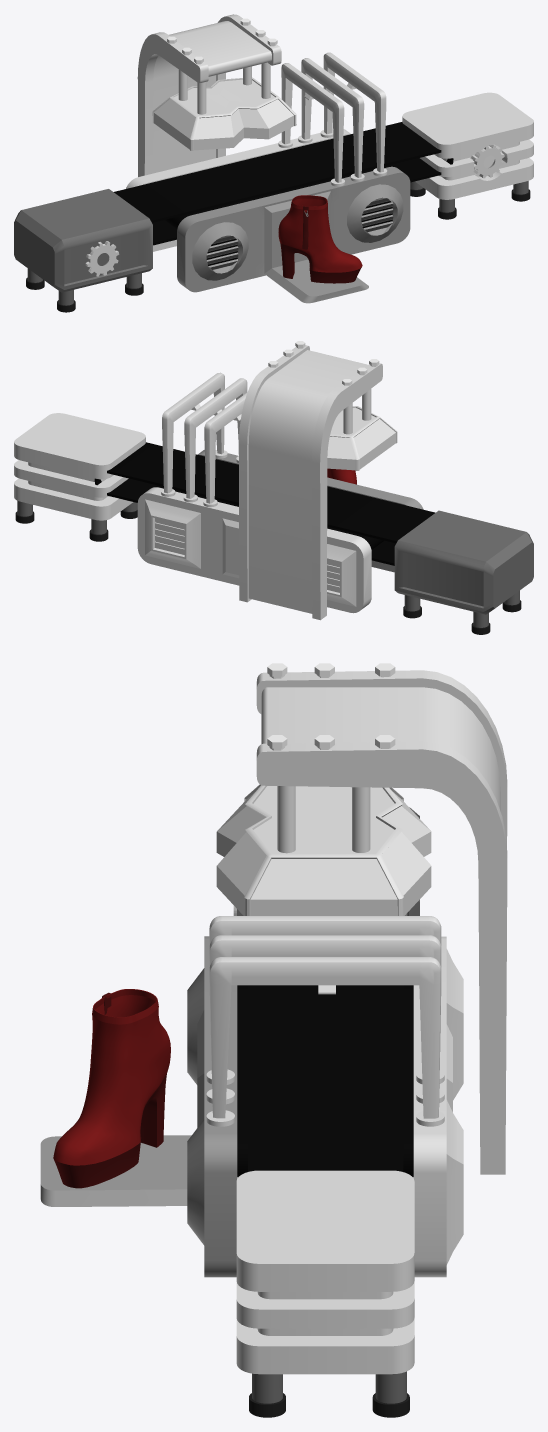
File: ayakkabmak7.fbx
3 renders of one model, top to bottom at view 1: azimuth 30°, elevation 25°; view 2: azimuth 150°, elevation 25°; view 3: azimuth 270°, elevation 25°, orthographic. The views are drawn at different scales.
Parts seen in each view (by area): view 1: Cube.063, Circle.181, Circle.187, Plane.011, Cube.033, Cylinder.217, s4studio_mesh_1_geom.025, Cube.067, Cube.066, Cube.069, Cube.065, Gear.069 (+4 smaller); view 2: Plane.011, Cube.065, Circle.187, Cube.033, Circle.181, Cylinder.217, Cube.069, Cube.067, Cube.066, Cube.063, Cylinder.219, Cylinder.222 (+4 smaller); view 3: Plane.011, Cube.033, Circle.181, Cylinder.217, Cube.063, s4studio_mesh_1_geom.025, Cube.069, Cube.065, Cube.067, Cube.066, Circle.182, Cylinder.236 (+3 smaller).
Part boxes in pixels (x1,y1,x2,y2): Cube.063: (177,166,410,303); Circle.181: (114,122,453,245); Circle.187: (14,189,152,292); Plane.011: (137,14,281,176); Cube.033: (402,92,533,199); Cylinder.217: (152,77,296,150); s4studio_mesh_1_geom.025: (278,195,362,283); Cube.067: (301,58,364,177); Cube.066: (281,63,344,182); Cube.069: (323,52,386,172); Cube.065: (126,129,350,251); Gear.069: (85,241,119,276); Plane.011: (238,345,382,620); Cube.065: (137,487,371,613); Circle.187: (394,510,533,614); Cube.033: (14,413,145,520); Circle.181: (94,442,435,565); Cylinder.217: (327,406,397,470); Cube.069: (162,372,224,493); Cube.067: (184,378,247,498); Cube.066: (204,392,247,503); Cube.063: (197,450,423,572); Cylinder.219: (403,595,421,618); Cylinder.222: (89,519,108,541); Plane.011: (256,670,507,1174); Cube.033: (236,1170,414,1374); Circle.181: (248,985,403,1171); Cylinder.217: (216,784,431,915); Cube.063: (40,936,237,1277); s4studio_mesh_1_geom.025: (53,989,170,1188); Cube.069: (209,957,441,1118); Cube.065: (413,936,463,1277); Cube.067: (209,935,441,966); Cube.066: (209,916,441,945); Circle.182: (237,985,413,1177); Cylinder.236: (372,1371,409,1417).
Size of the model in its own units: 1430 by 614 by 601.
